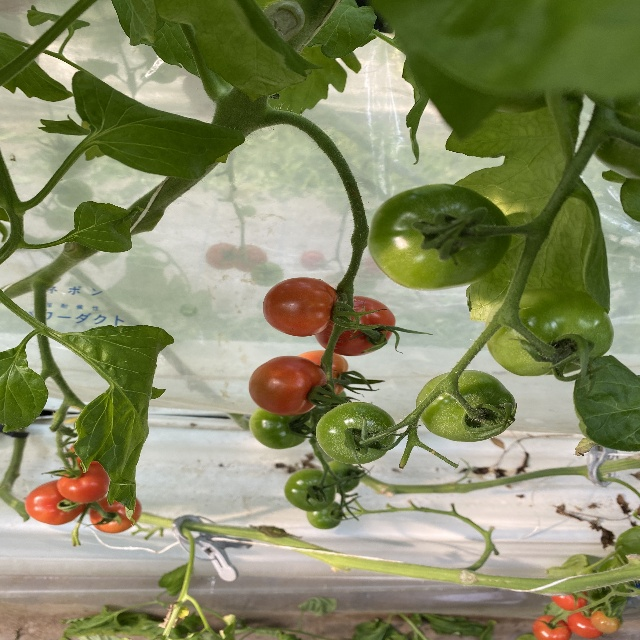l_fully_ripened: (315, 295, 396, 356), (249, 355, 329, 415), (262, 277, 339, 337), (24, 479, 87, 526), (57, 461, 110, 504), (90, 493, 142, 533), (566, 608, 603, 639), (533, 614, 571, 640), (551, 591, 590, 611)
l_green: (369, 182, 513, 290), (484, 289, 614, 376), (416, 369, 516, 442), (316, 401, 397, 465), (249, 408, 312, 450), (284, 469, 338, 511), (320, 460, 361, 493), (306, 502, 344, 529)
l_half_ripened: (298, 350, 348, 400), (591, 610, 620, 634)
